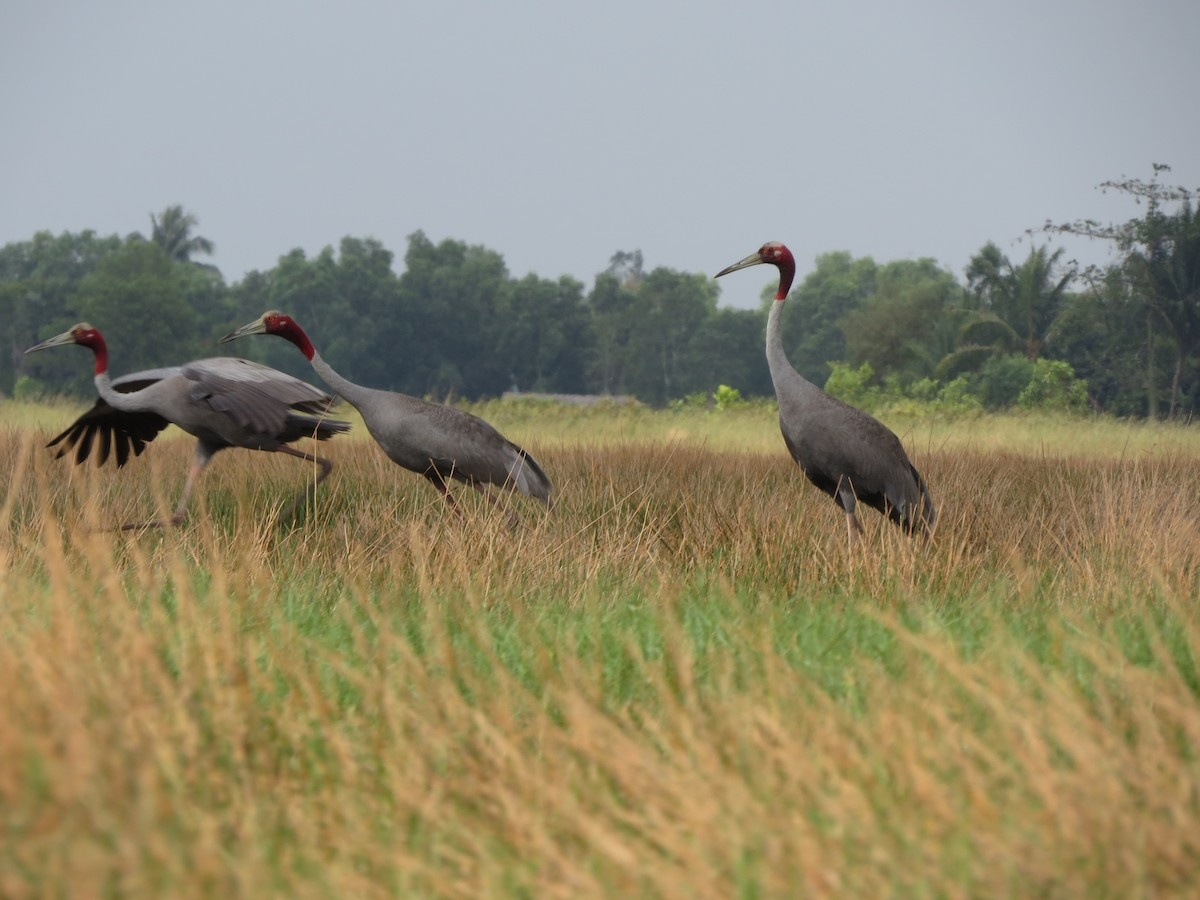crane: (709, 233, 951, 548), (214, 303, 558, 511), (16, 311, 350, 522)
